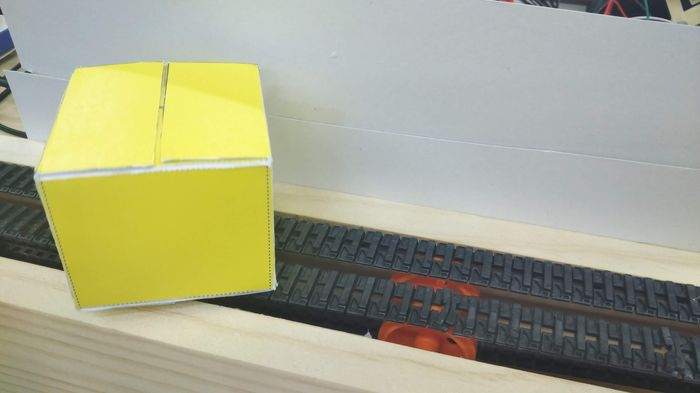box4: (28, 57, 278, 314)
